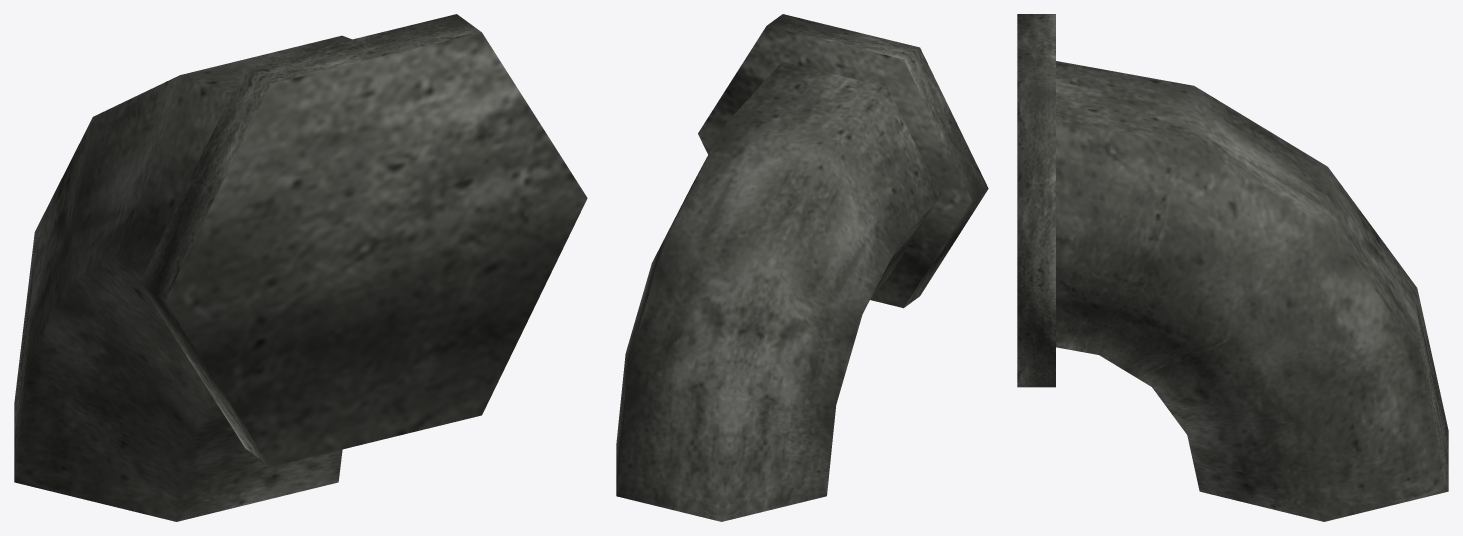
Rendered from large_metal_2_elbow.fbx.
The picture shows the model from 3 angles, left to right: view 1: azimuth 30°, elevation 25°; view 2: azimuth 150°, elevation 25°; view 3: azimuth 270°, elevation 25°; orthographic projection. The views are drawn at different scales.
Visible parts, largest first — view 1: polySurface522; view 2: polySurface522; view 3: polySurface522.
Boxes of the visible parts, x1,y1,x2,y2 form: polySurface522: (14, 14, 587, 521); polySurface522: (616, 14, 988, 521); polySurface522: (1017, 14, 1448, 521).
Size of the model in its own units: 1.3 by 1.56 by 1.5.
